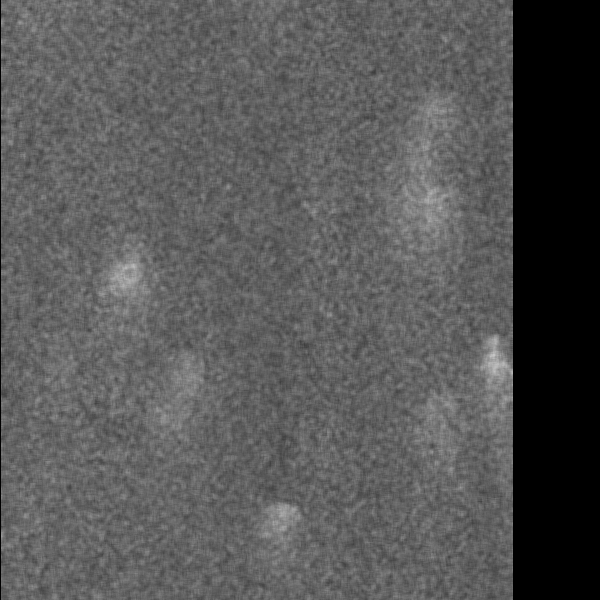spark: (100, 239, 147, 319), (479, 327, 504, 477), (266, 498, 305, 569)
